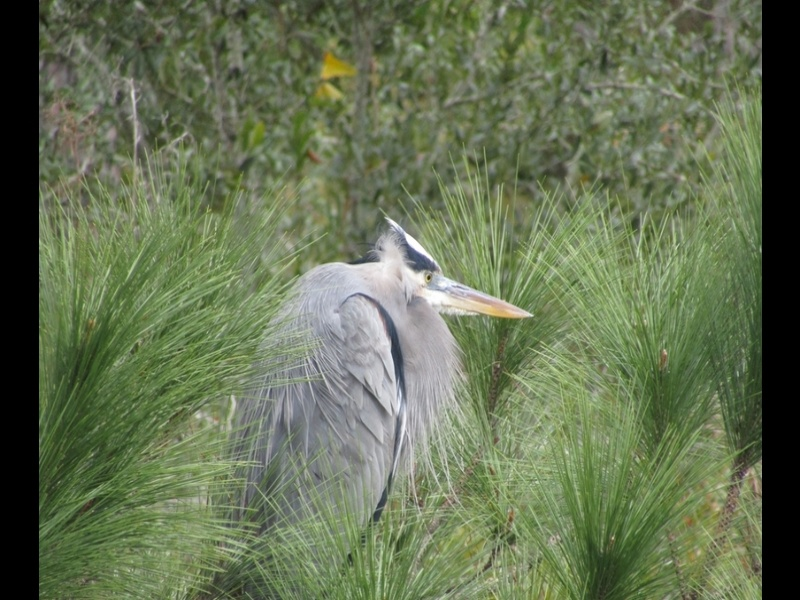heron: (190, 213, 535, 592)
